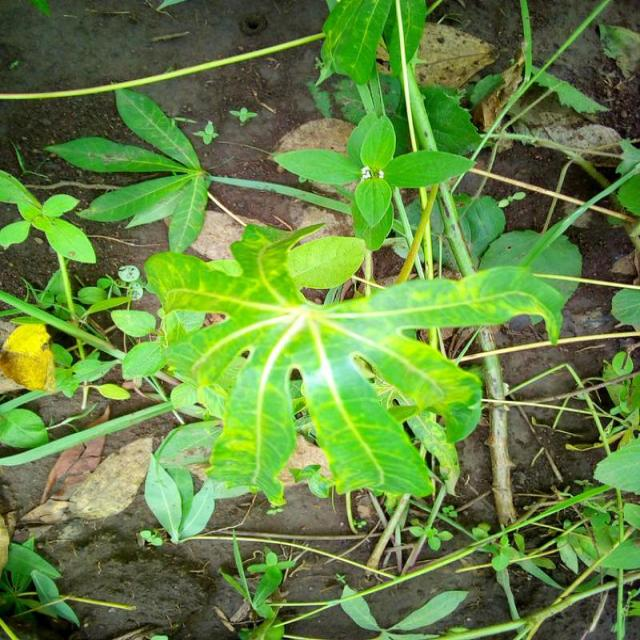cassava leaf: (142, 220, 568, 508), (269, 110, 476, 251)
